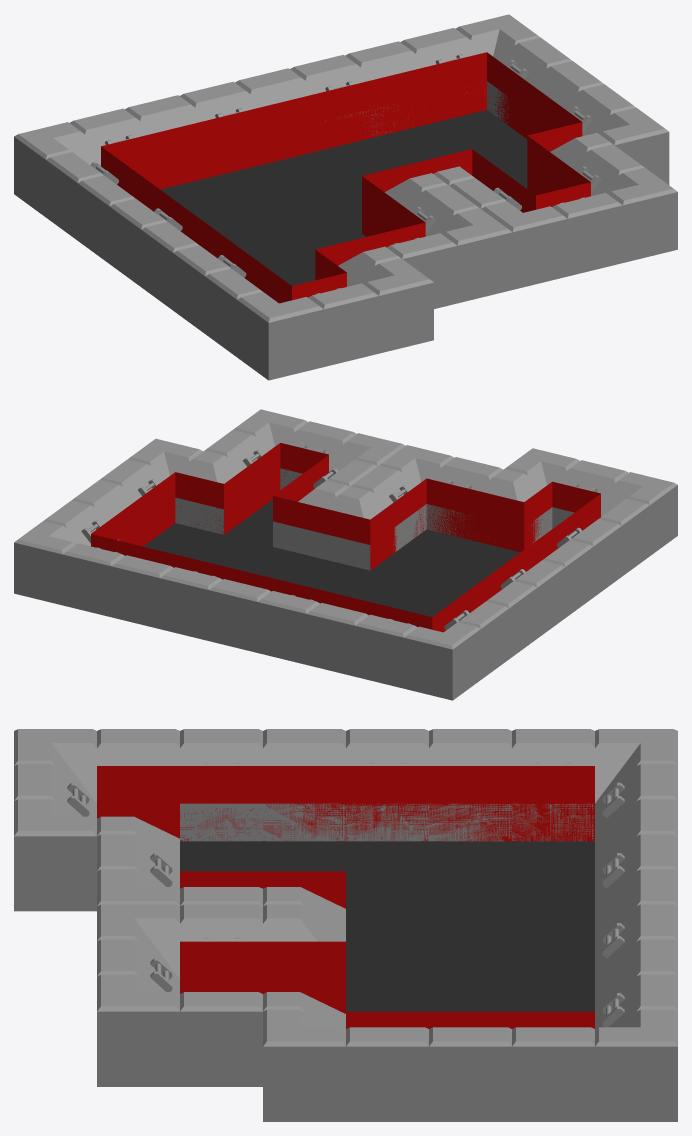
File: level_3.fbx
The picture shows the model from 3 angles, top to bottom: view 1: azimuth 30°, elevation 25°; view 2: azimuth 150°, elevation 25°; view 3: azimuth 270°, elevation 25°; orthographic projection. The views are drawn at different scales.
Parts seen in each view (by area): view 1: walls, bounds, ground; view 2: walls, bounds, ground; view 3: walls, ground, bounds.
Boxes of the visible parts, x1,y1,x2,y2 form: walls: (14, 14, 677, 380); bounds: (101, 52, 590, 303); ground: (160, 110, 527, 285); walls: (14, 409, 677, 700); bounds: (91, 443, 600, 632); ground: (143, 499, 520, 616); walls: (14, 729, 677, 1121); ground: (180, 841, 594, 1011); bounds: (97, 766, 594, 1028).
Bounding box in the file's own units: 900 × 105 × 800.
